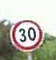limite 30: (8, 18, 44, 51)
